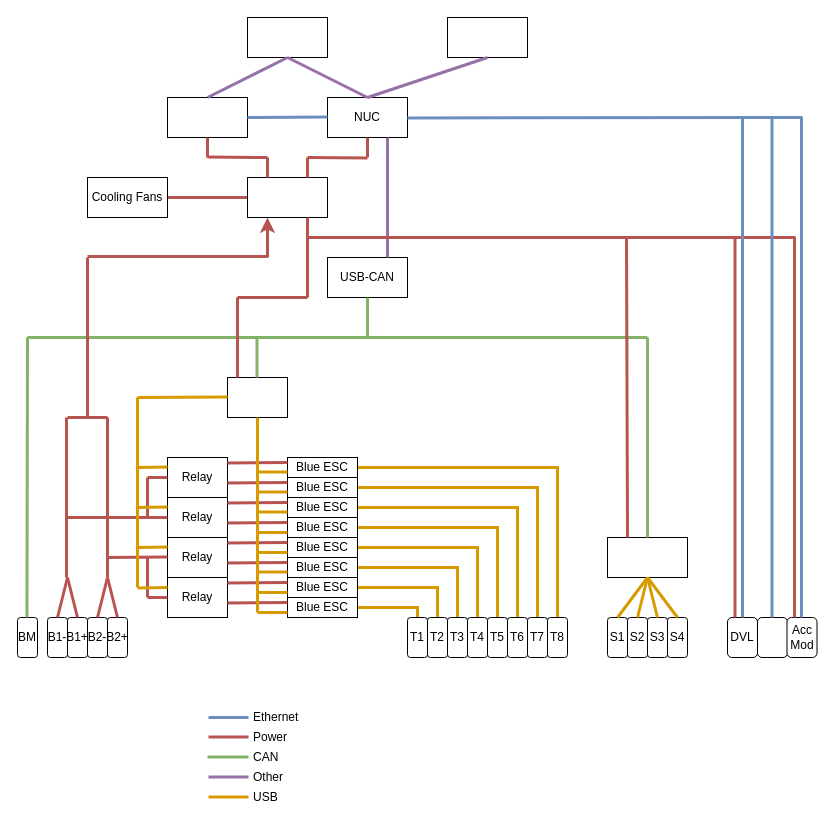
Image size: 835x825. Some labels were removed from this diagram. Each missing label, with the centre of its shape:
Down Cam: the point at 287,37
IMU: the point at 487,37
Jetson: the point at 207,117
Power Merge System PS: the point at 287,197
Servo Controller: the point at 647,557
Teth: the point at 772,637
Thrust/kill: the point at 257,397
